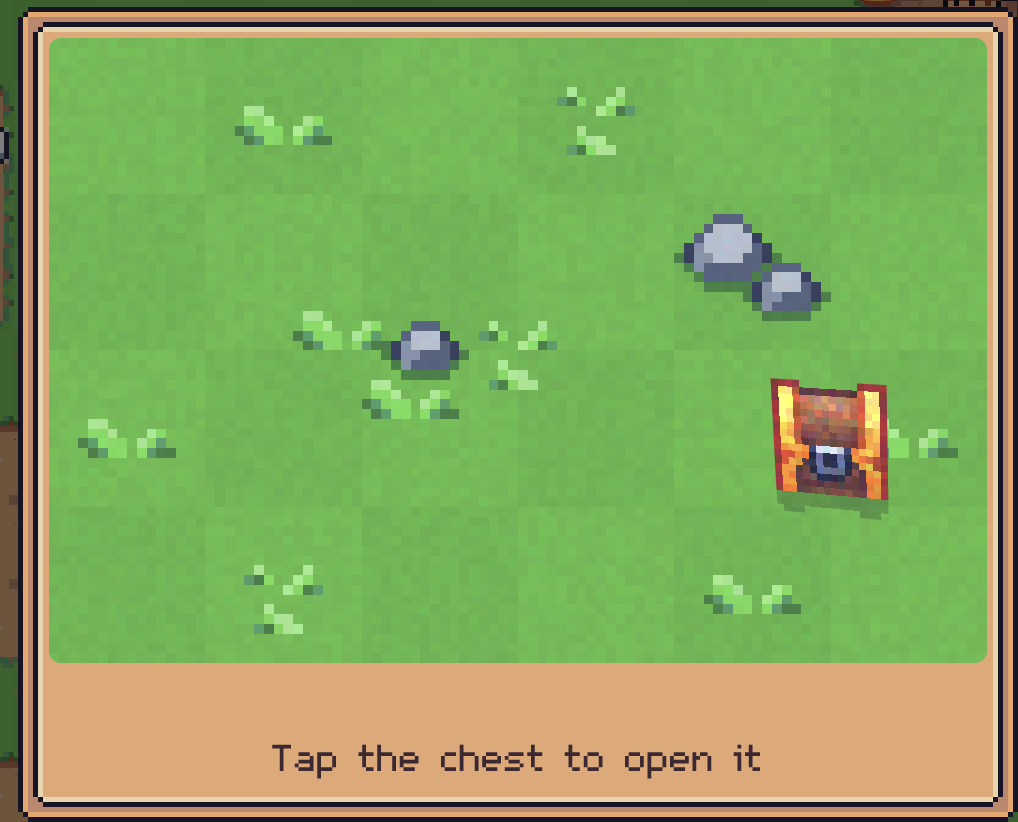capcha_chest: (767, 378, 894, 503)
